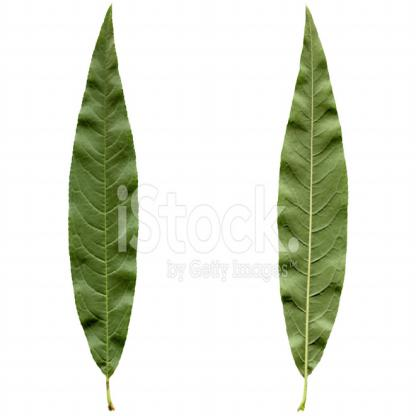peach leaf: (255, 8, 354, 415), (66, 2, 146, 415)
